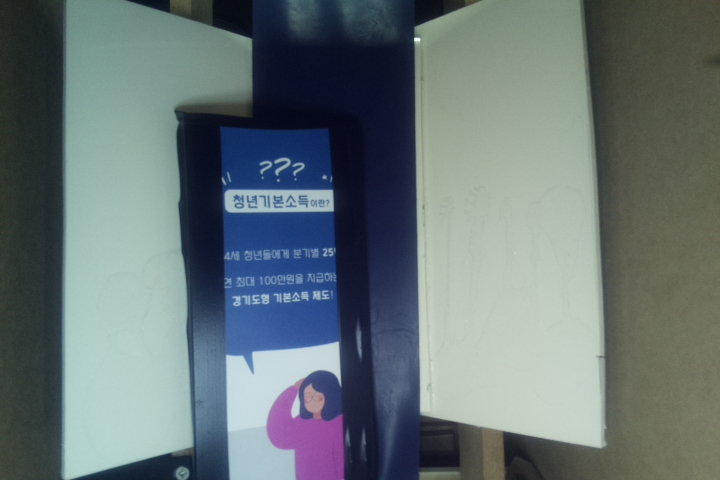book: (177, 110, 376, 480)
